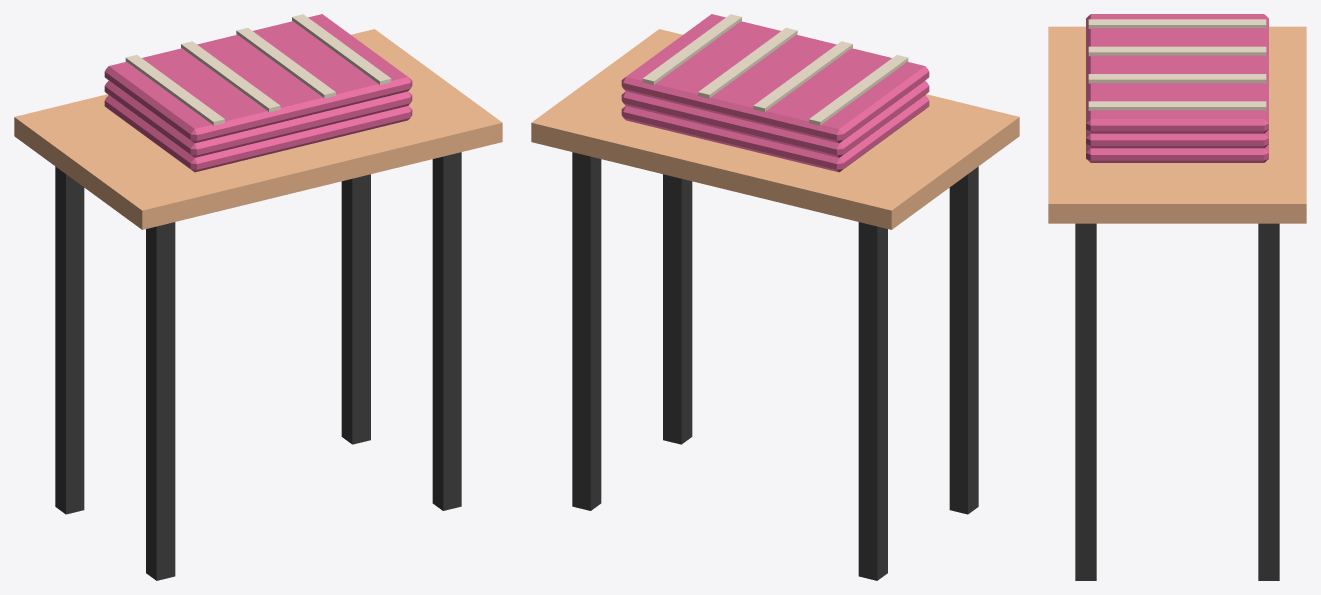
The picture shows the model from 3 angles, left to right: view 1: azimuth 30°, elevation 25°; view 2: azimuth 150°, elevation 25°; view 3: azimuth 270°, elevation 25°; orthographic projection.
Parts seen in each view (by area): view 1: Display tabletop, Folded textile.002, Display support leg, Display support leg.002, Display support leg.001, Display support leg.003, Folded textile.001, Folded textile, Woven blanket stripe.001, Woven blanket stripe, Woven blanket stripe.002, Woven blanket stripe.003; view 2: Display tabletop, Folded textile.002, Display support leg.001, Display support leg.003, Display support leg, Display support leg.002, Folded textile.001, Folded textile, Woven blanket stripe.001, Woven blanket stripe, Woven blanket stripe.002, Woven blanket stripe.003; view 3: Display tabletop, Folded textile.002, Display support leg.002, Display support leg.003, Folded textile.001, Folded textile, Woven blanket stripe, Woven blanket stripe.001, Woven blanket stripe.003, Woven blanket stripe.002.
Boxes of the visible parts, <box> form: Display tabletop: <box>14,29,502,229</box>; Folded textile.002: <box>104,14,412,143</box>; Display support leg: <box>146,222,175,580</box>; Display support leg.002: <box>432,152,461,510</box>; Display support leg.001: <box>55,166,84,514</box>; Display support leg.003: <box>341,174,370,444</box>; Folded textile.001: <box>104,81,412,157</box>; Folded textile: <box>104,95,412,172</box>; Woven blanket stripe.001: <box>181,41,280,112</box>; Woven blanket stripe: <box>125,55,224,125</box>; Woven blanket stripe.002: <box>236,27,335,98</box>; Woven blanket stripe.003: <box>292,14,391,84</box>; Display tabletop: <box>531,29,1019,229</box>; Folded textile.002: <box>621,14,929,143</box>; Display support leg.001: <box>858,222,887,580</box>; Display support leg.003: <box>572,152,601,510</box>; Display support leg: <box>949,166,978,514</box>; Display support leg.002: <box>663,174,692,444</box>; Folded textile.001: <box>621,81,929,157</box>; Folded textile: <box>621,95,929,172</box>; Woven blanket stripe.001: <box>753,41,852,112</box>; Woven blanket stripe: <box>809,55,908,125</box>; Woven blanket stripe.002: <box>698,27,797,98</box>; Woven blanket stripe.003: <box>642,14,741,84</box>; Display tabletop: <box>1048,26,1306,223</box>; Folded textile.002: <box>1086,14,1268,133</box>; Display support leg.002: <box>1075,223,1096,580</box>; Display support leg.003: <box>1258,223,1279,580</box>; Folded textile.001: <box>1086,130,1268,148</box>; Folded textile: <box>1086,144,1268,162</box>; Woven blanket stripe: <box>1088,19,1266,28</box>; Woven blanket stripe.001: <box>1088,46,1266,56</box>; Woven blanket stripe.003: <box>1088,101,1266,110</box>; Woven blanket stripe.002: <box>1088,74,1266,83</box>.
Size of the model in its own units: 78 by 90.7 by 48.
